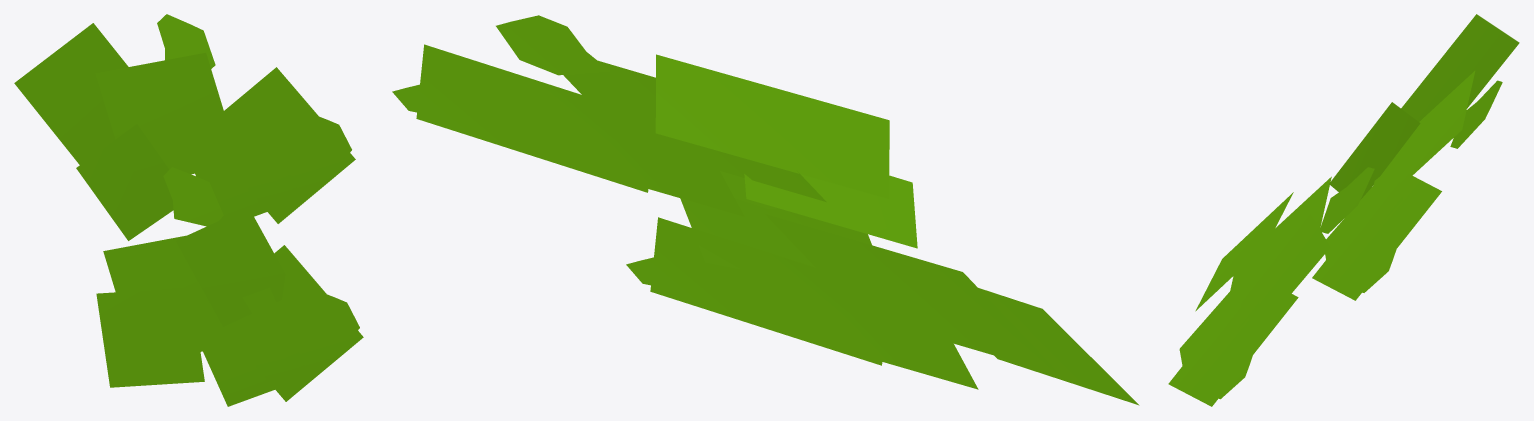
Rendered from Prop_Vine8.fbx.
The picture shows the model from 3 angles, left to right: view 1: azimuth 30°, elevation 25°; view 2: azimuth 150°, elevation 25°; view 3: azimuth 270°, elevation 25°; orthographic projection. The views are drawn at different scales.
Visible parts, largest first — view 1: Prop_Vine8; view 2: Prop_Vine8; view 3: Prop_Vine8.
Part boxes in pixels (x1=…): Prop_Vine8: x1=14, y1=14, x2=363, y2=406; Prop_Vine8: x1=392, y1=15, x2=1139, y2=405; Prop_Vine8: x1=1168, y1=14, x2=1519, y2=406.
Size of the model in its own units: 278 by 242 by 242.
